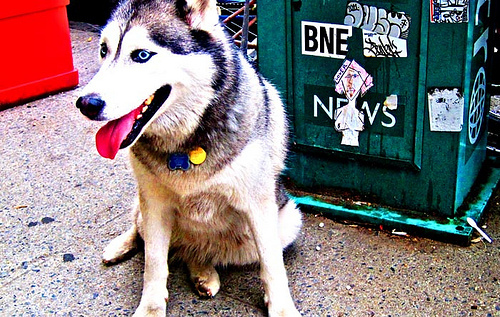dog: (75, 0, 302, 316)
